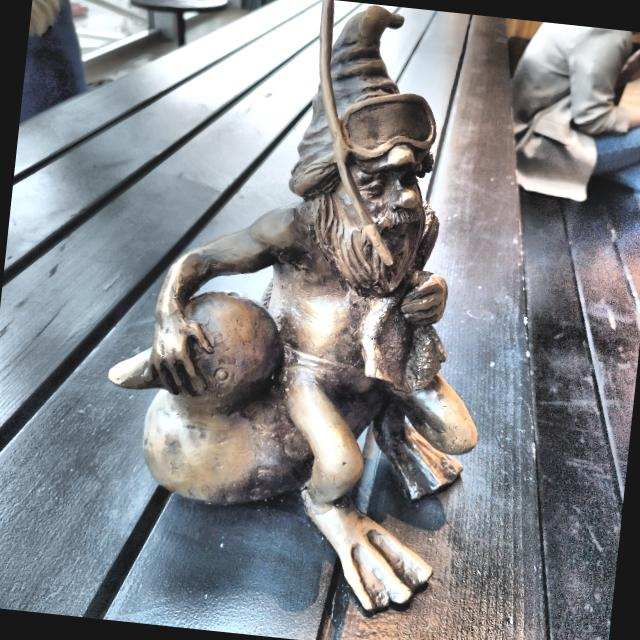Babelek_Chlaptus: (108, 0, 477, 612)
